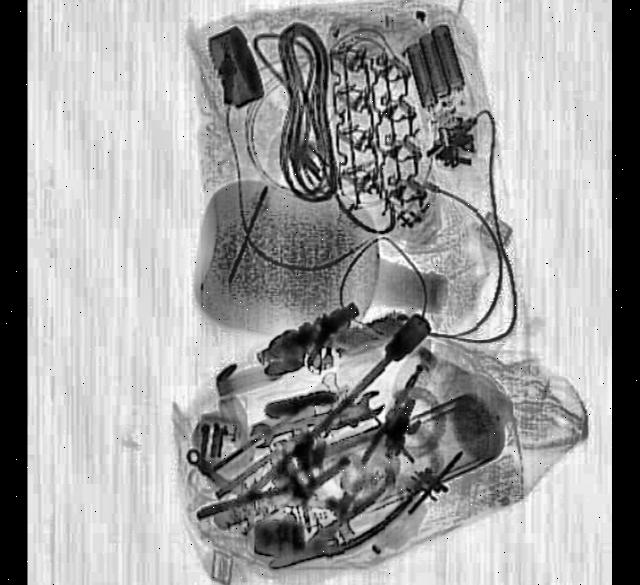Pliers: (262, 466, 419, 585)
Wrench: (248, 382, 389, 454)
